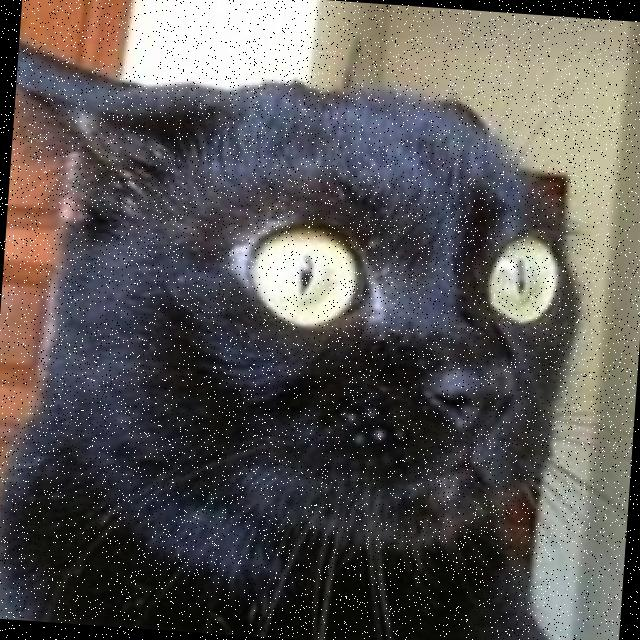Surprised: (182, 146, 594, 533)
